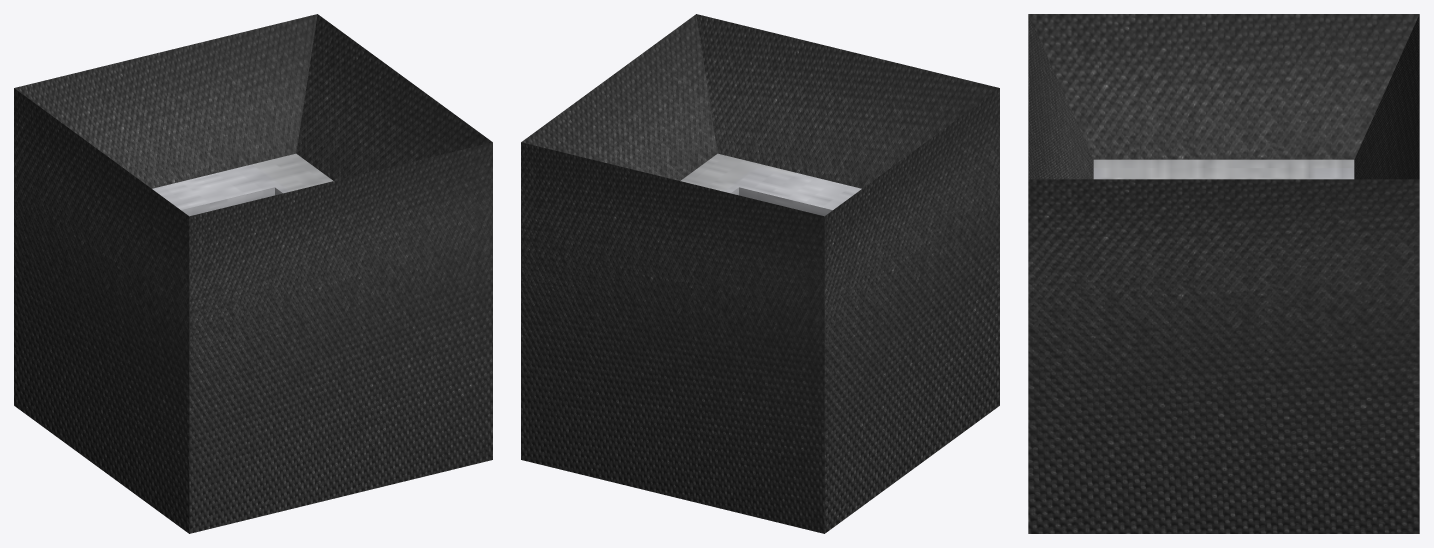
Rendered from WallLamp001.FBX.
The picture shows the model from 3 angles, left to right: view 1: azimuth 30°, elevation 25°; view 2: azimuth 150°, elevation 25°; view 3: azimuth 270°, elevation 25°; orthographic projection. The views are drawn at different scales.
Parts seen in each view (by area): view 1: WallLamp001; view 2: WallLamp001; view 3: WallLamp001.
Boxes of the visible parts, x1,y1,x2,y2 form: WallLamp001: (14,14,492,533); WallLamp001: (521,14,999,533); WallLamp001: (1028,14,1419,533).
Size of the model in its own units: 30 by 30 by 30.
